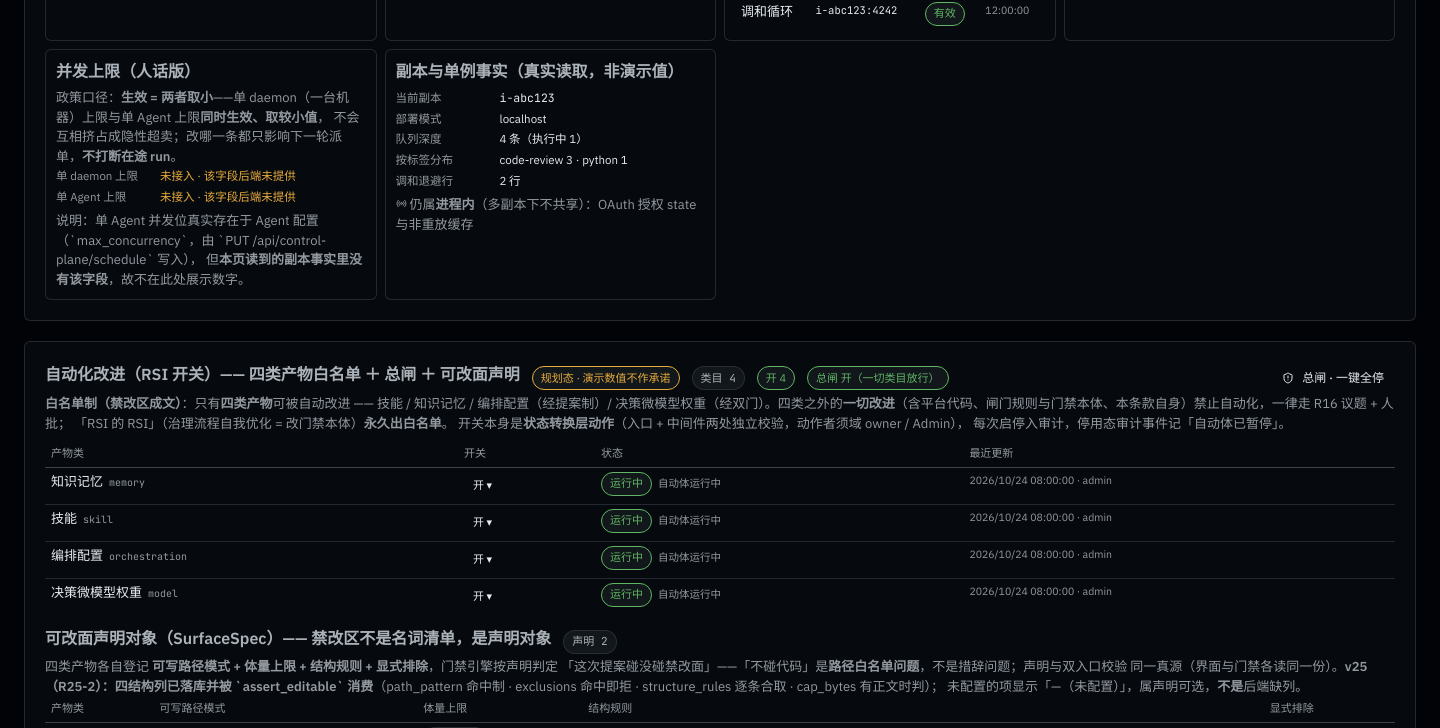
Scenario: ① RSI 开关卡组 › 总闸 = global 真行：一键全停单发 /api/rsi/switches/global（v25 R25-7 落表）
(page scrolled)
Click the button with aria-label "总闸 · 一键全停（全局总闸·短路一切类目）".
click(1333, 378)  # box [1271,362,1395,394]
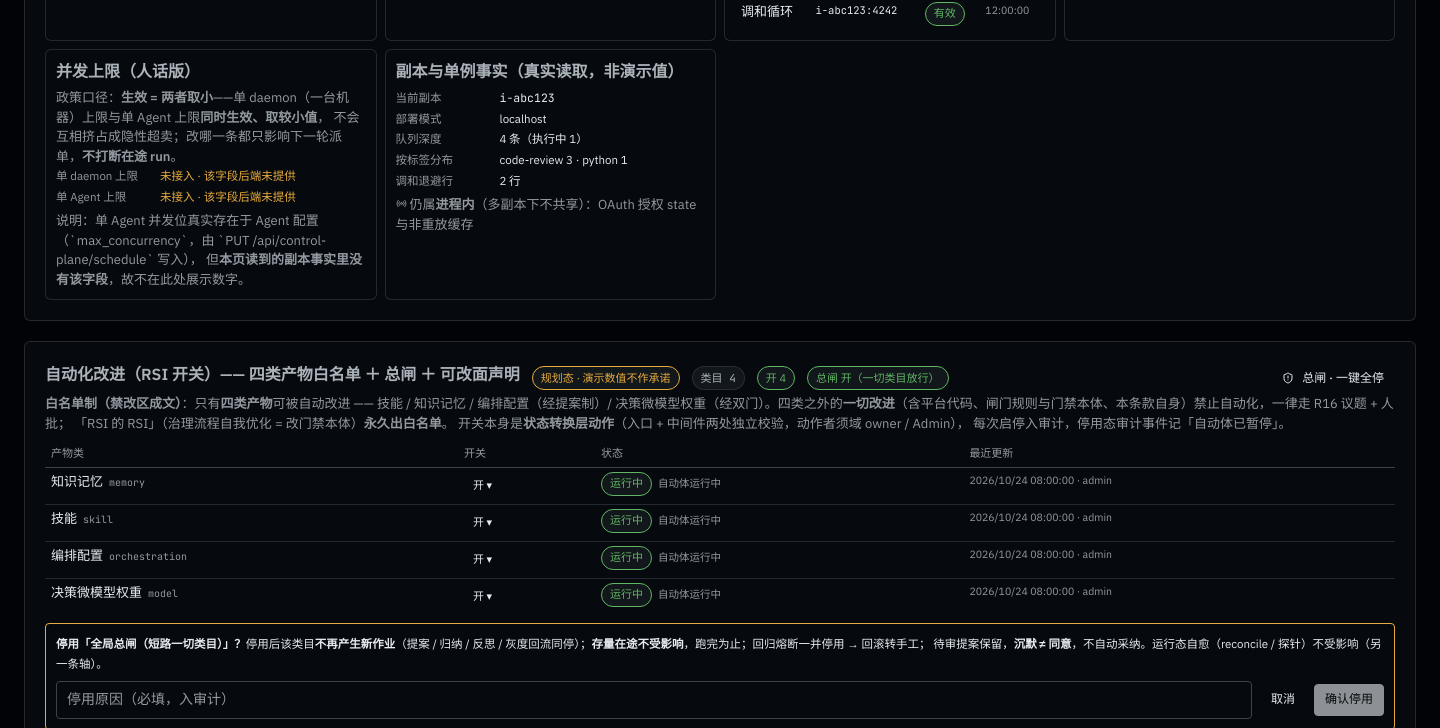
Type "发布窗口冻结自动体" into the field named "停用原因（必填）".
click(654, 700); type("发布窗口冻结自动体")  # box [56,681,1252,719]
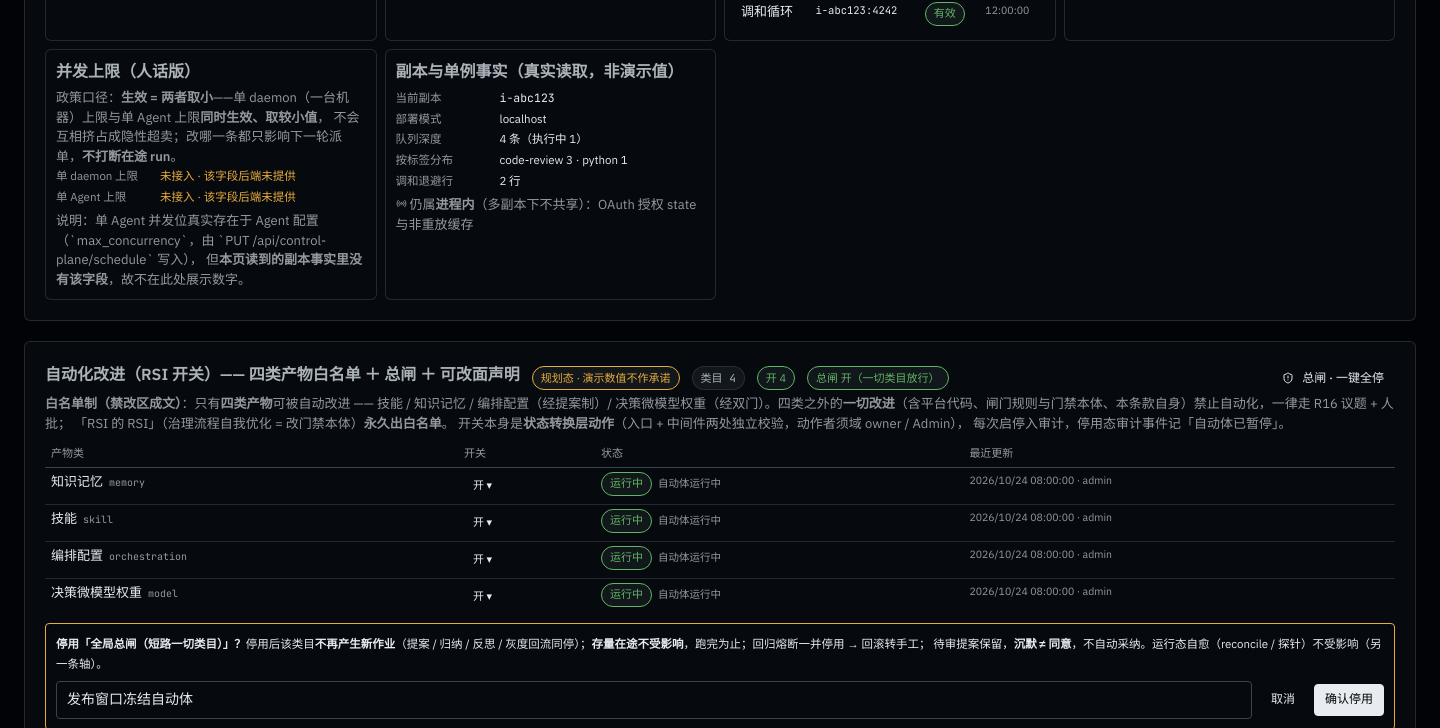
Click the button "确认停用".
click(1349, 700)  # box [1314,684,1384,716]
(page scrolled)
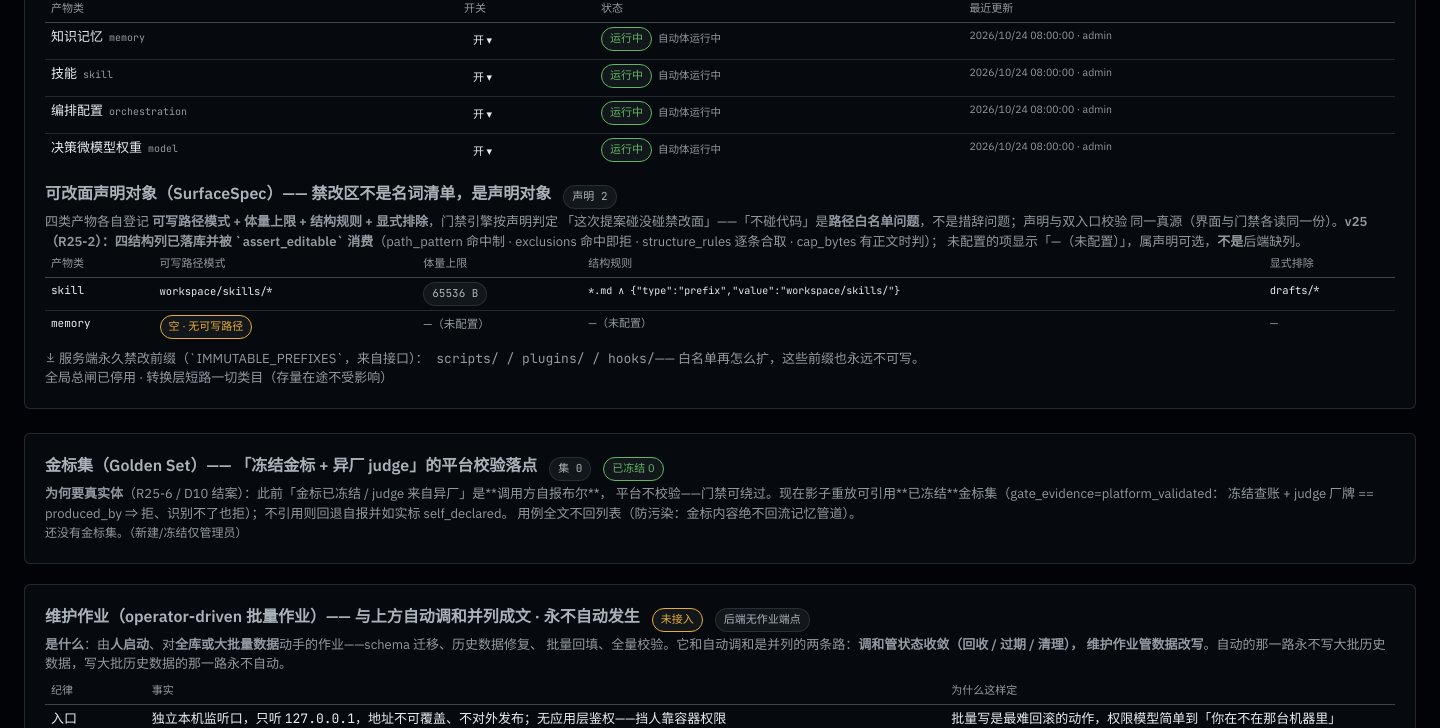
Expected: the message shows "总闸已停用", [45,370,393,386]
